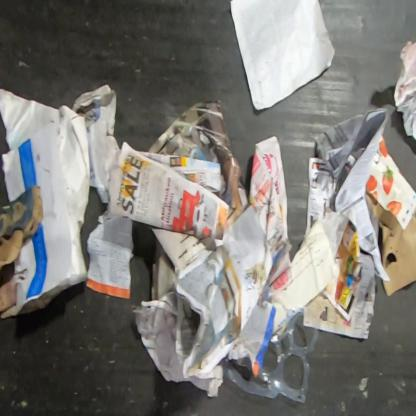cardboard: (365, 136, 416, 298)
soft_plastic: (217, 282, 320, 405)
